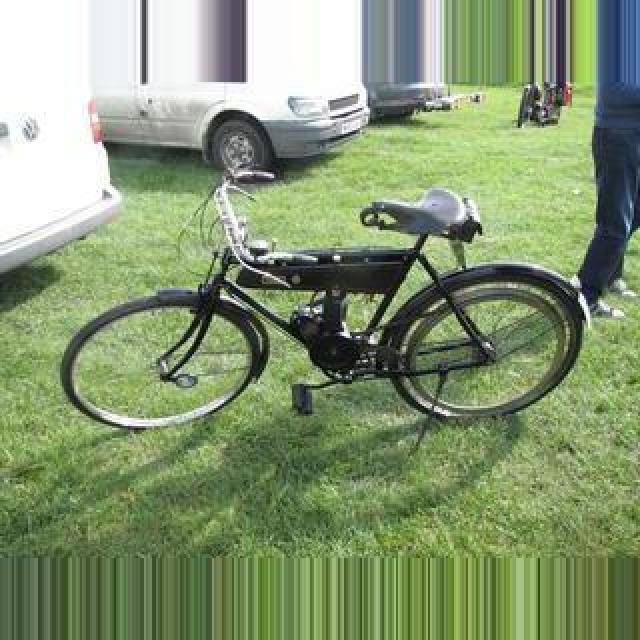Bus-Bike: (98, 90, 372, 176)
Person: (60, 164, 600, 464)
